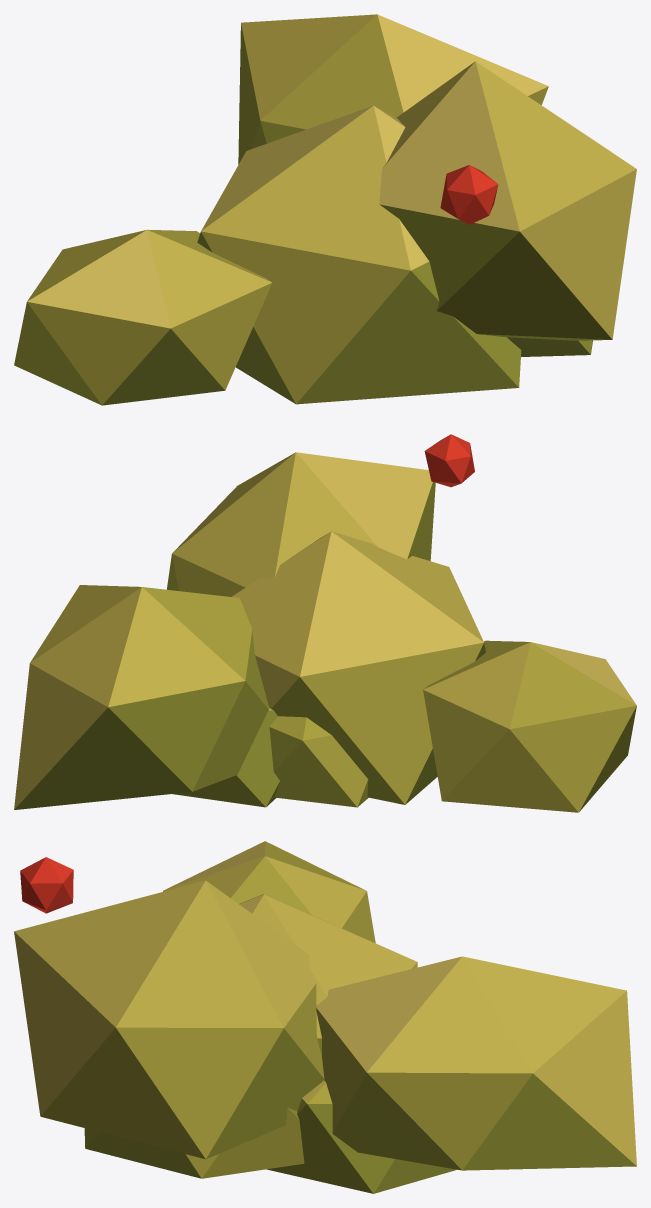
The model's file is SM_DESERT_SHRUB_02.fbx.
3 views of the same model, one above another, from view 1: azimuth 30°, elevation 25°; view 2: azimuth 150°, elevation 25°; view 3: azimuth 270°, elevation 25° (orthographic). The views are drawn at different scales.
Visible parts, largest first — view 1: DESERT_SHRUB_02; view 2: DESERT_SHRUB_02; view 3: DESERT_SHRUB_02.
Part boxes in pixels (x1,y1,x2,y2): DESERT_SHRUB_02: [14, 14, 636, 405]; DESERT_SHRUB_02: [14, 434, 636, 812]; DESERT_SHRUB_02: [14, 841, 636, 1193].
Bounding box in the file's own units: 0.8345 × 0.8291 × 0.3903.
